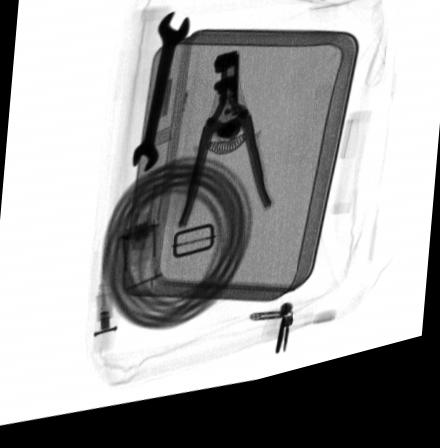Pliers: (173, 57, 277, 237)
Wrench: (131, 19, 191, 181)
